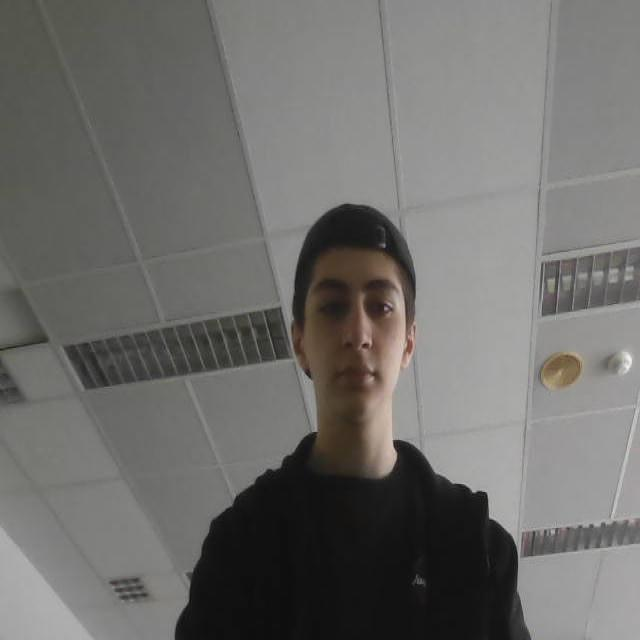opened_eye: (366, 296, 396, 318), (318, 296, 348, 317)
